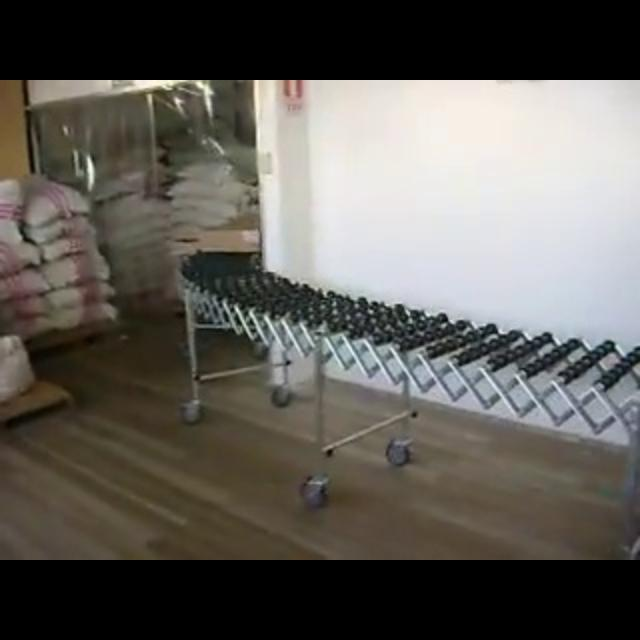Box: (198, 222, 264, 256)
